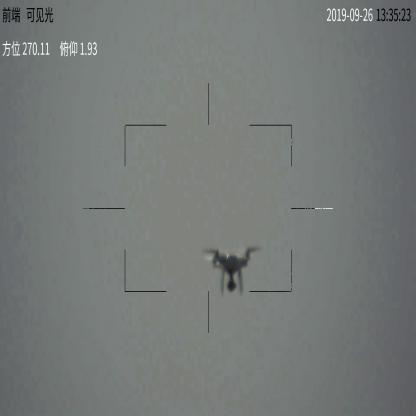uav: (201, 247, 257, 296)
